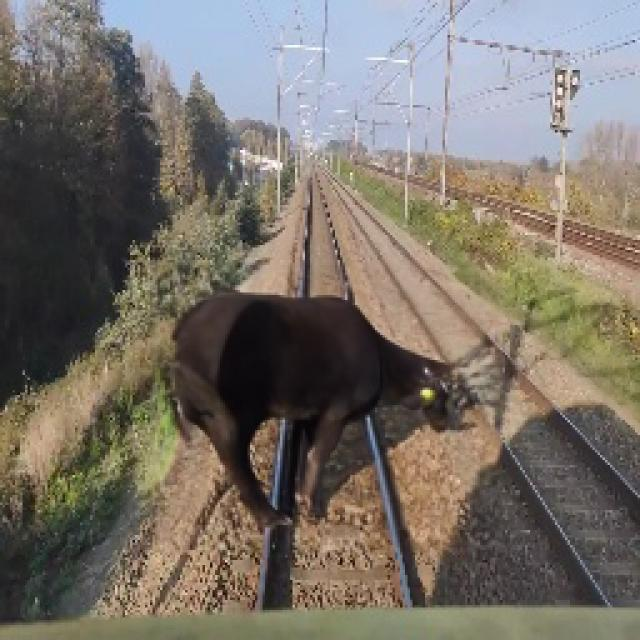danger: (163, 286, 482, 531)
rail: (239, 165, 446, 611)
